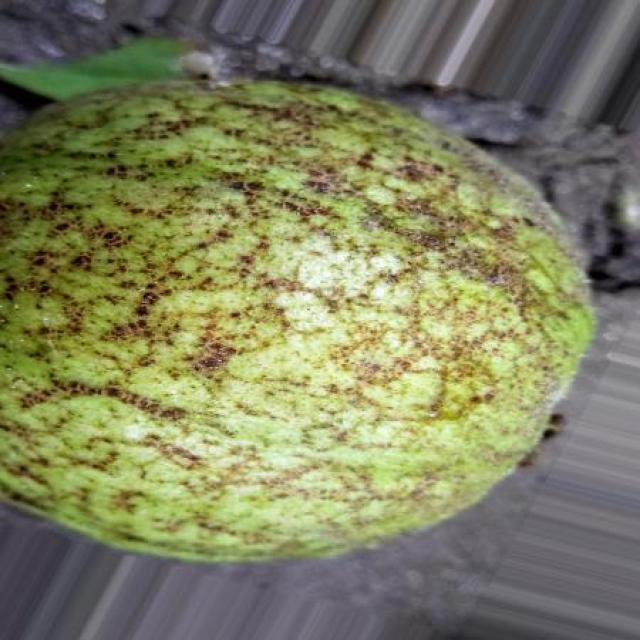Scab: (0, 82, 591, 560)
